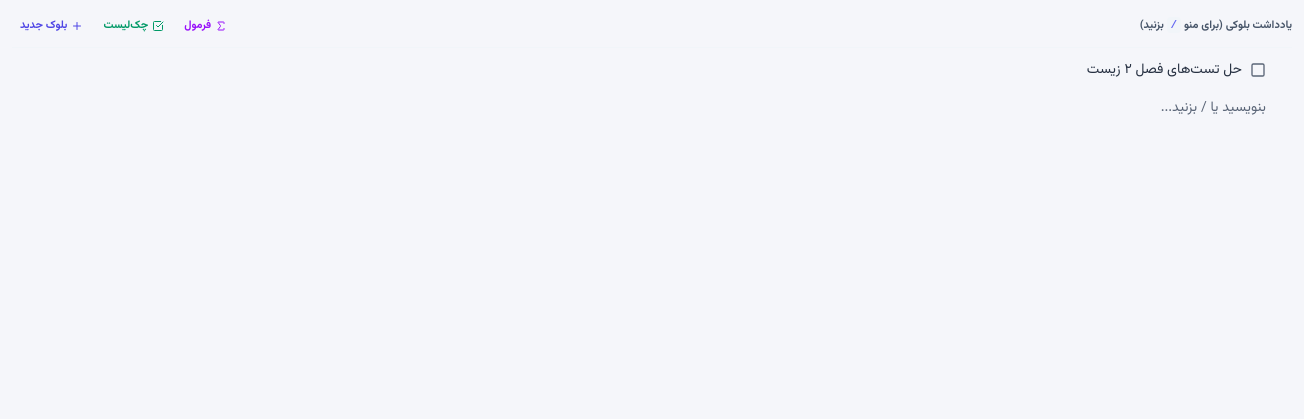
Scenario: MathRenderer & BlockNoteEditor UI components › renders BlockNoteEditor, toggles checklist, invokes Focus callback, and converts block via / menu
Earlier steps of the test are not shown.
Type "/" into the field with placeholder "بنویسید یا / بزنید..." at (639, 108), box [12, 94, 1266, 122]
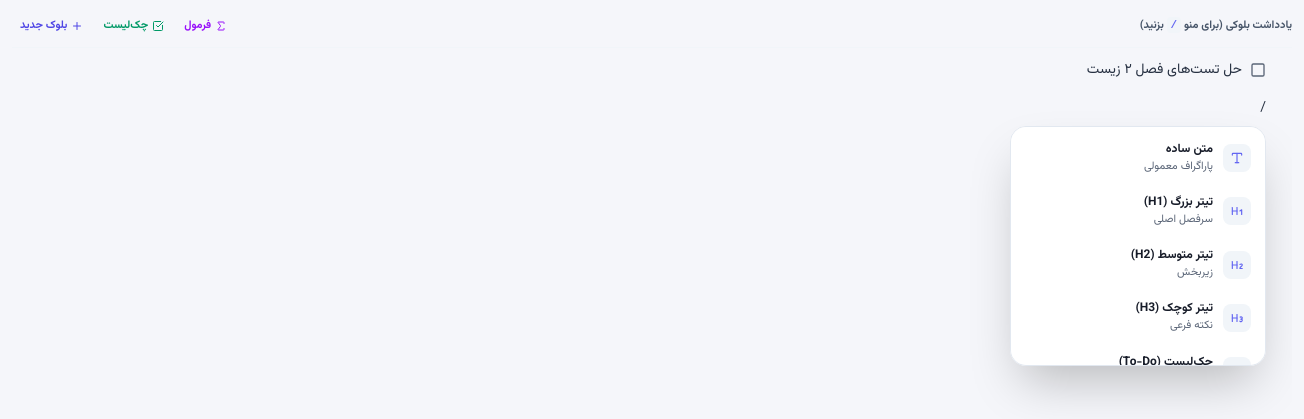
Now the text "تیتر بزرگ (H1)" is shown
Click the text "تیتر بزرگ (H1)" at (1178, 202), box [1144, 194, 1213, 210]
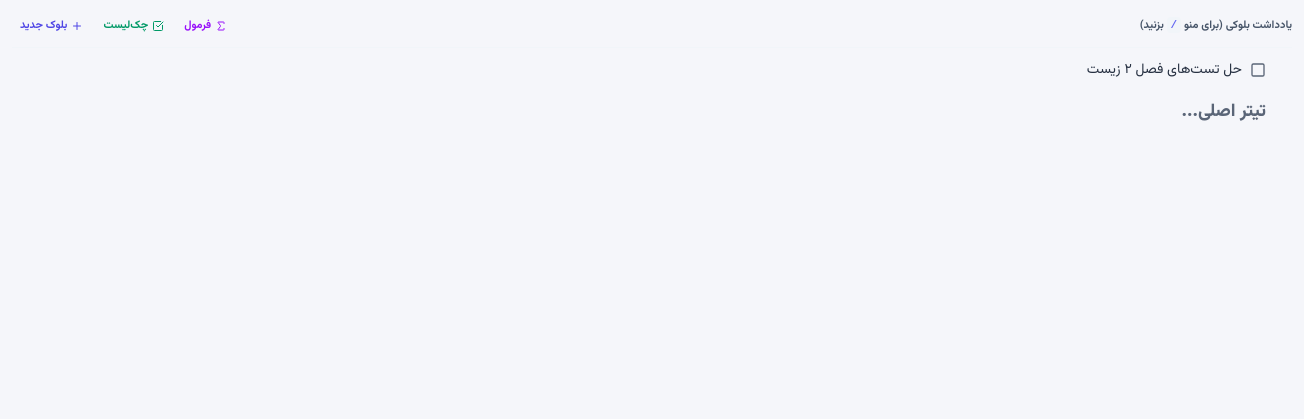
Now the field with placeholder "تیتر اصلی..." is shown, box [12, 94, 1266, 130]
